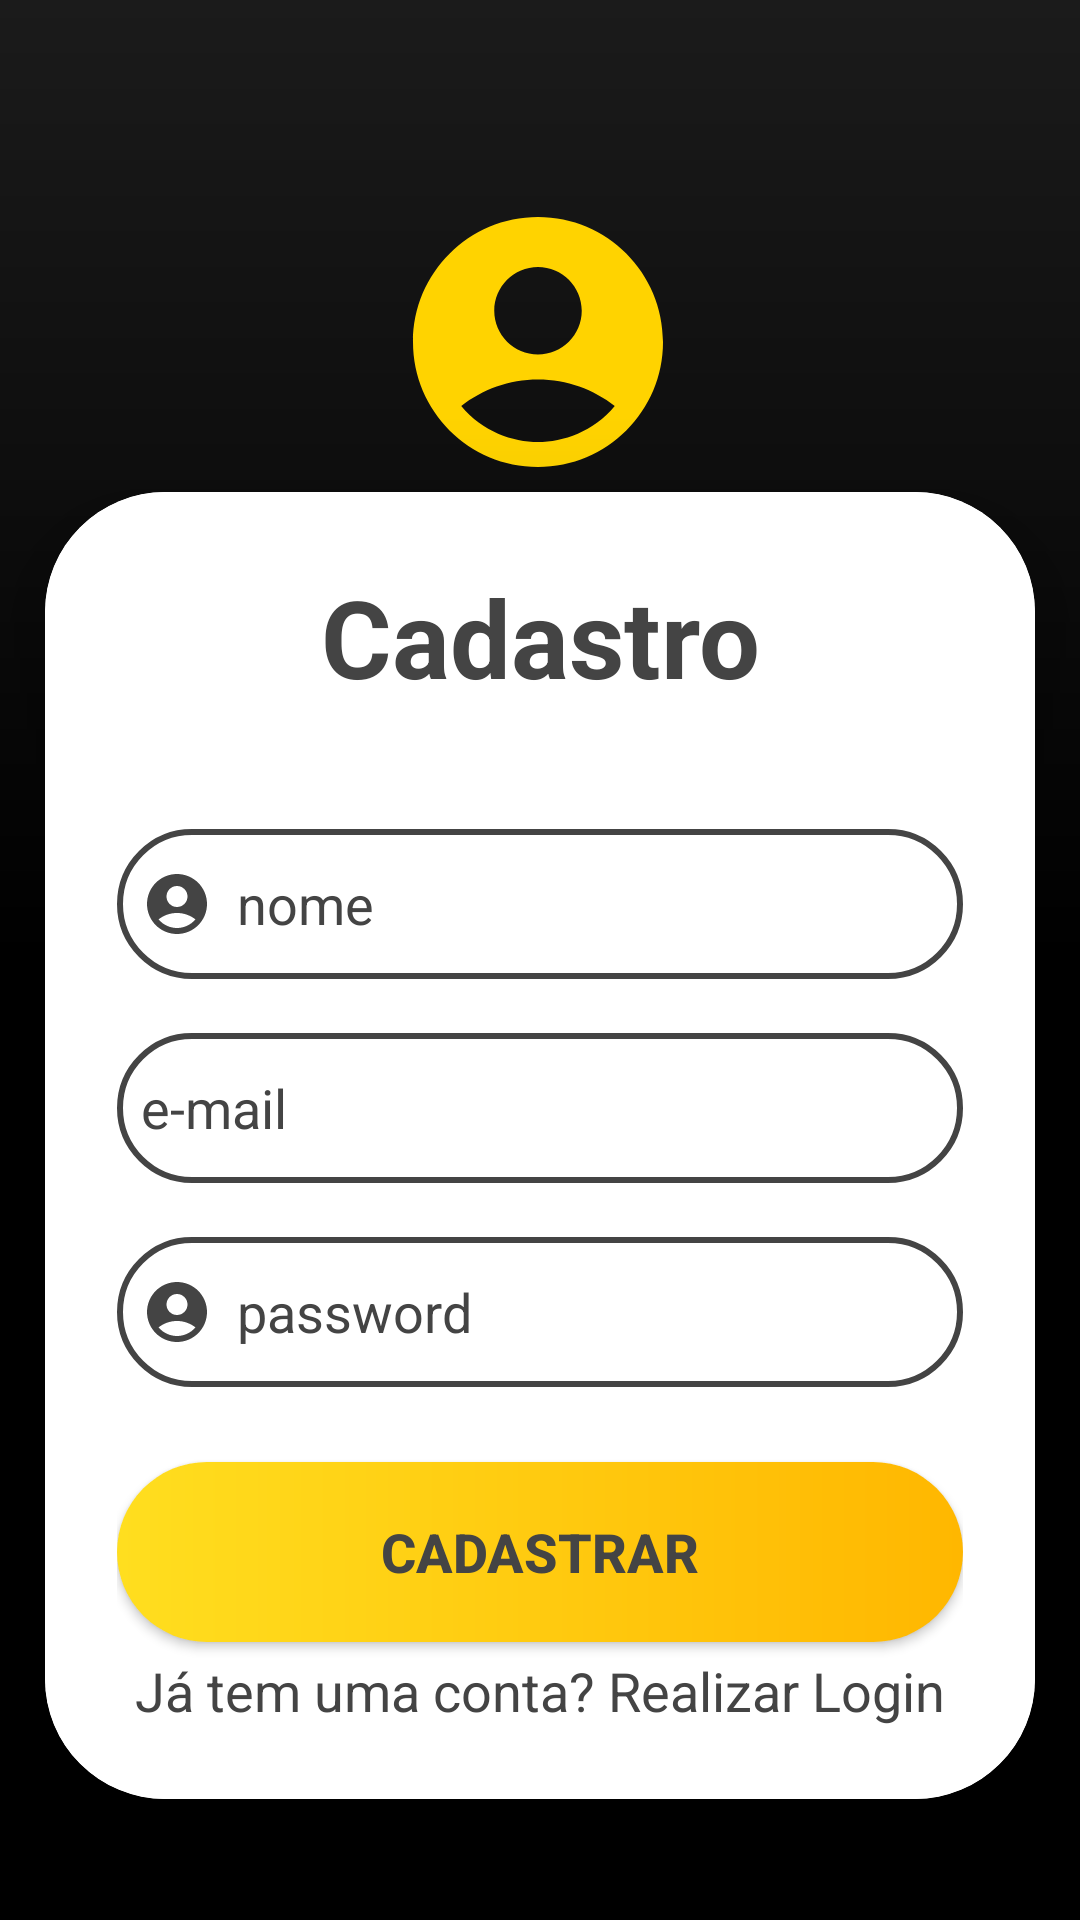

Icons on this 1080px x 1920px Android screen, each with the point to tap as point (x, y):
account circle: point (538, 342)
